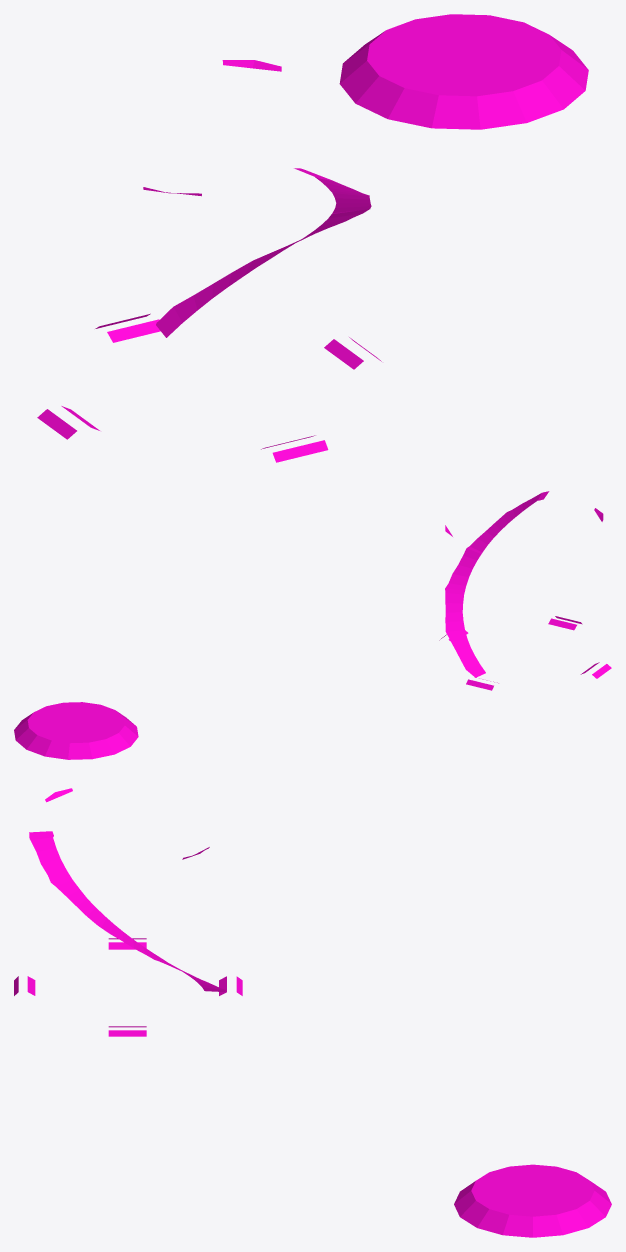
Rendered from map1_smoothing.fbx.
The picture shows the model from 3 angles, top to bottom: view 1: azimuth 30°, elevation 25°; view 2: azimuth 150°, elevation 25°; view 3: azimuth 270°, elevation 25°; orthographic projection. The views are drawn at different scales.
Visible parts, largest first — view 1: Cube; view 2: Cube; view 3: Cube.
Boxes of the visible parts, left/top/right/bottom form: Cube: left=37, top=14, right=588, bottom=462; Cube: left=14, top=491, right=611, bottom=759; Cube: left=14, top=788, right=611, bottom=1237.
Size of the model in its own units: 543 by 201 by 530.
